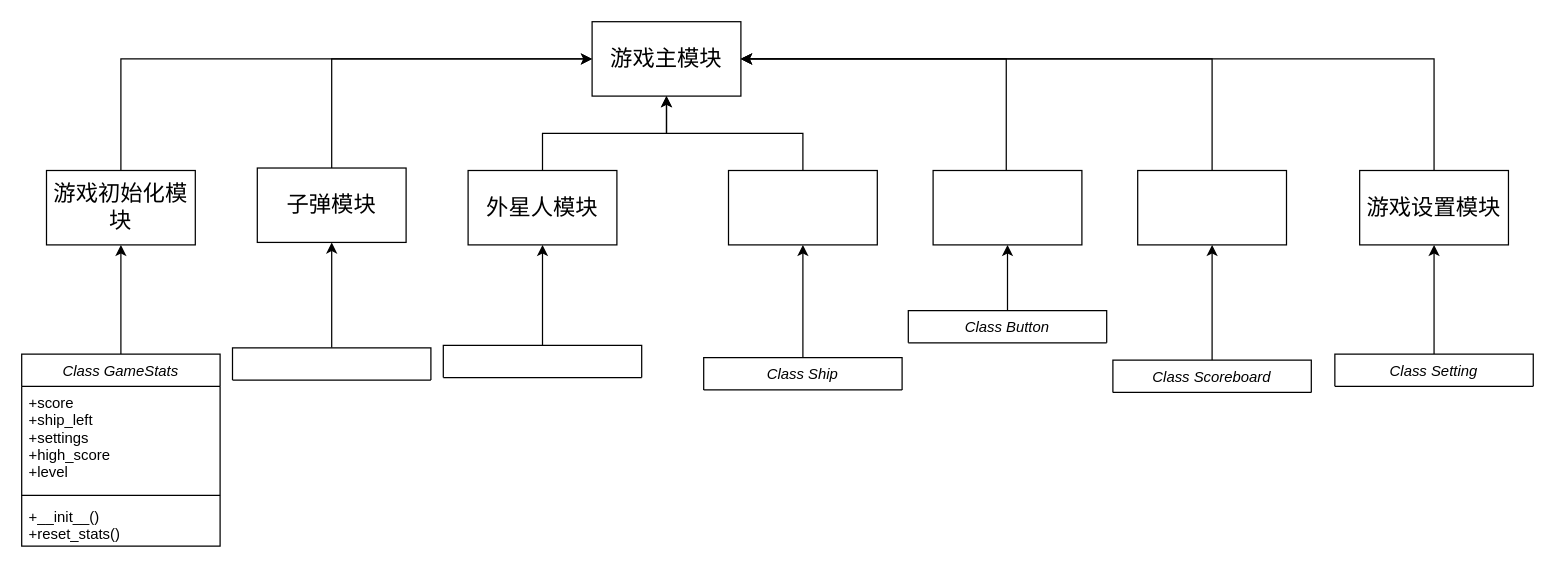
Image size: 1555x572. Some labels were removed from this diagram. Each missing label, with the centre of its shape:
"Class Alien" goes at (542,361).
"Class Bullet" goes at (331,363).
"游戏分数模块" goes at (1211,207).
"游戏界面模块" goes at (1007,207).
"飞船模块" goes at (802,207).
